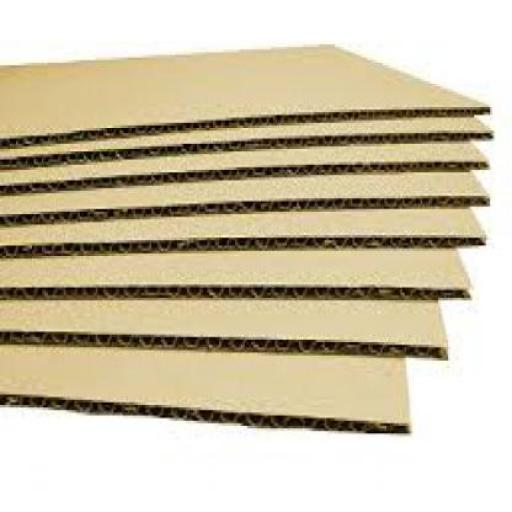cardboard: (0, 42, 495, 148), (0, 342, 409, 431), (1, 298, 446, 360), (0, 136, 486, 190), (0, 115, 492, 164), (0, 250, 469, 301), (0, 203, 485, 246), (0, 170, 486, 212)
